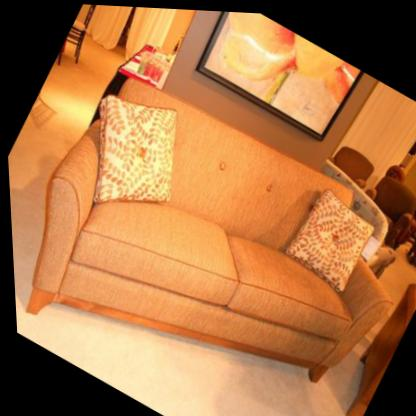Chair: (56, 2, 111, 63)
Sofa: (2, 46, 416, 416), (342, 163, 416, 260)
